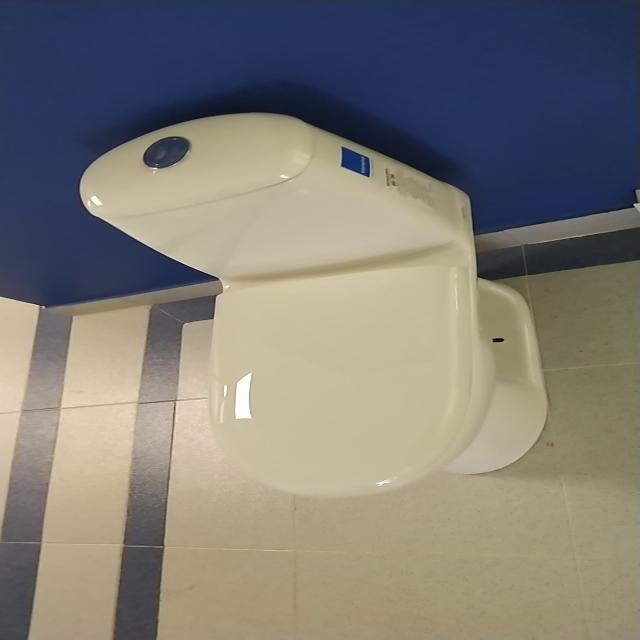toilet: (78, 111, 548, 499)
